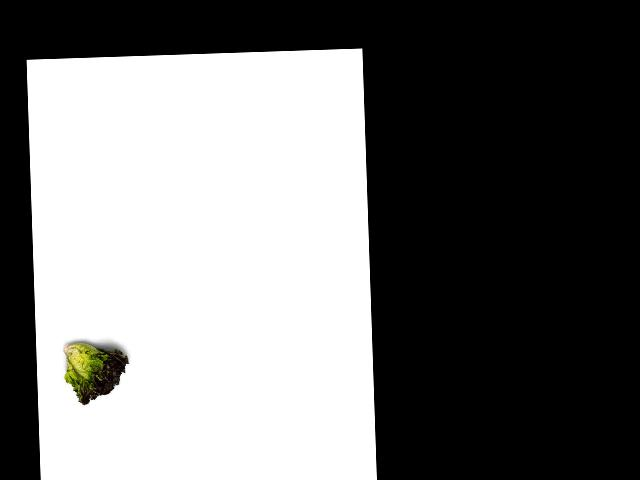lettuce: (60, 340, 134, 404)
